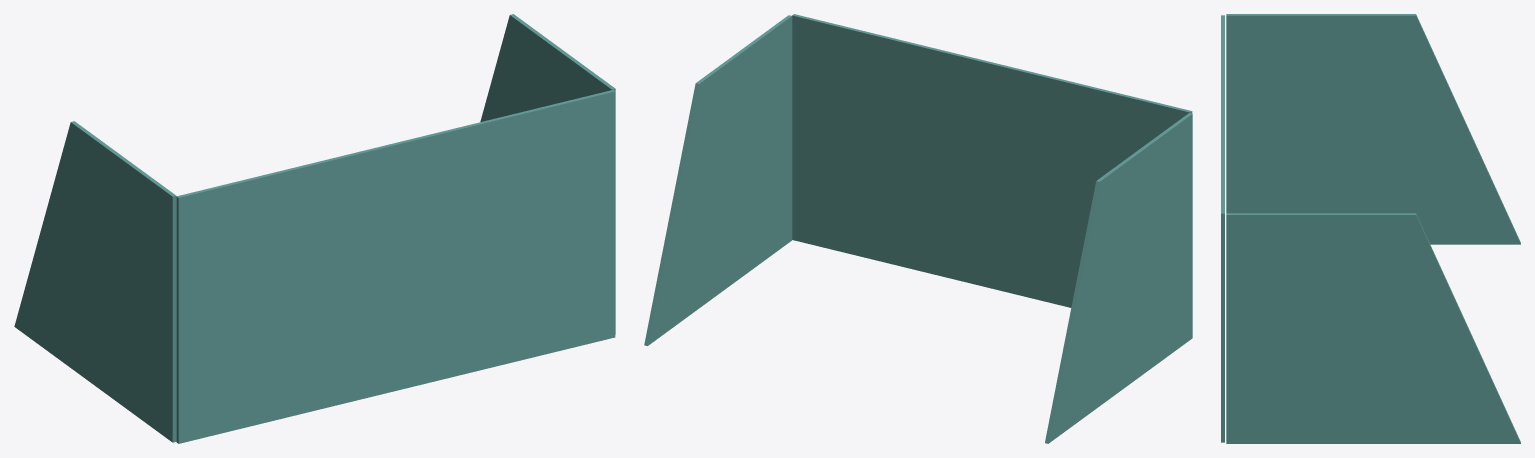
File: SM_Cart_Glass_Trapez_01.fbx
The picture shows the model from 3 angles, left to right: view 1: azimuth 30°, elevation 25°; view 2: azimuth 150°, elevation 25°; view 3: azimuth 270°, elevation 25°; orthographic projection. The views are drawn at different scales.
Visible parts, largest first — view 1: SM_Cart_Glass_Trapez_01; view 2: SM_Cart_Glass_Trapez_01; view 3: SM_Cart_Glass_Trapez_01.
Boxes of the visible parts, x1,y1,x2,y2 form: SM_Cart_Glass_Trapez_01: (14, 14, 615, 443); SM_Cart_Glass_Trapez_01: (644, 14, 1192, 443); SM_Cart_Glass_Trapez_01: (1221, 14, 1520, 443).
Bounding box in the file's own units: 1.38 × 0.734 × 0.8717.
Materials: 1 (1 with a texture image).
